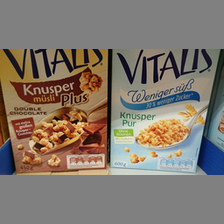cereal: (109, 48, 221, 173), (1, 49, 109, 175)
